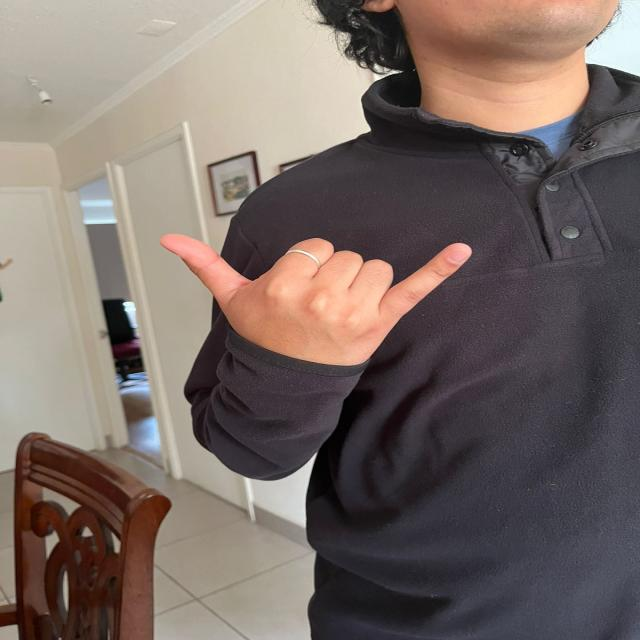Y: (152, 218, 480, 369)
